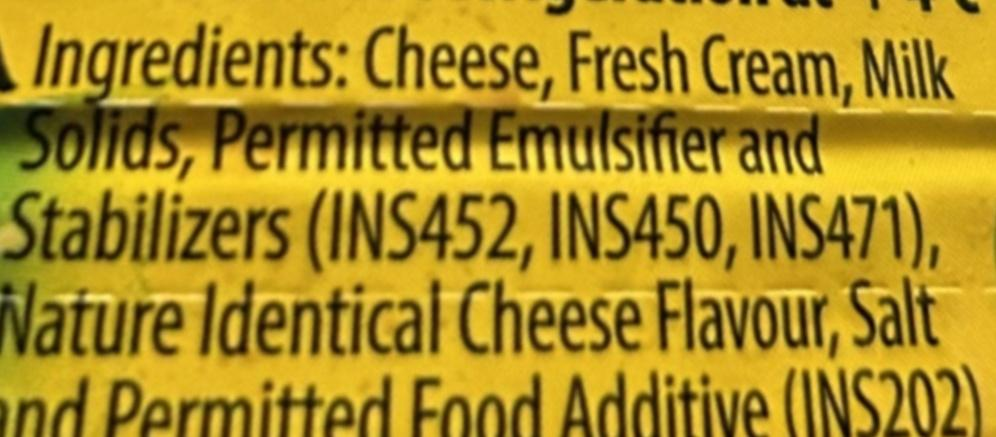ingredients: (12, 7, 996, 437)
